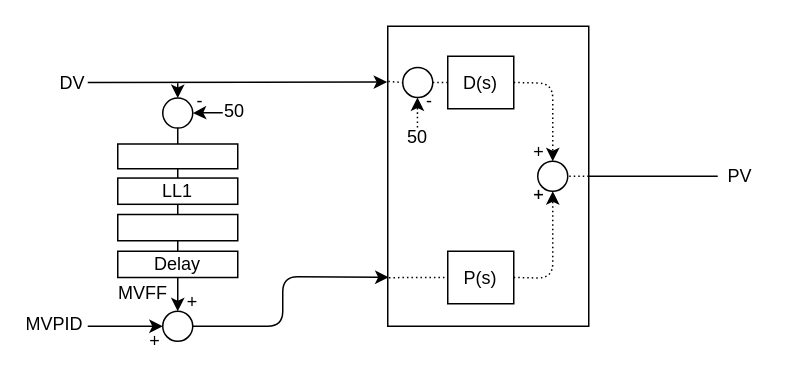
Image size: 788x383. Some labels were removed from this diagram. Here are the shapes that lost their labels. From the top down, the box of each, then its label:
(116, 142, 238, 169): Gain (-Kp/Kd)
(116, 213, 238, 241): LL2
